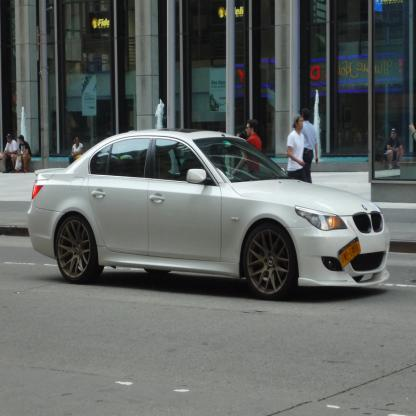Car: (26, 128, 390, 301)
